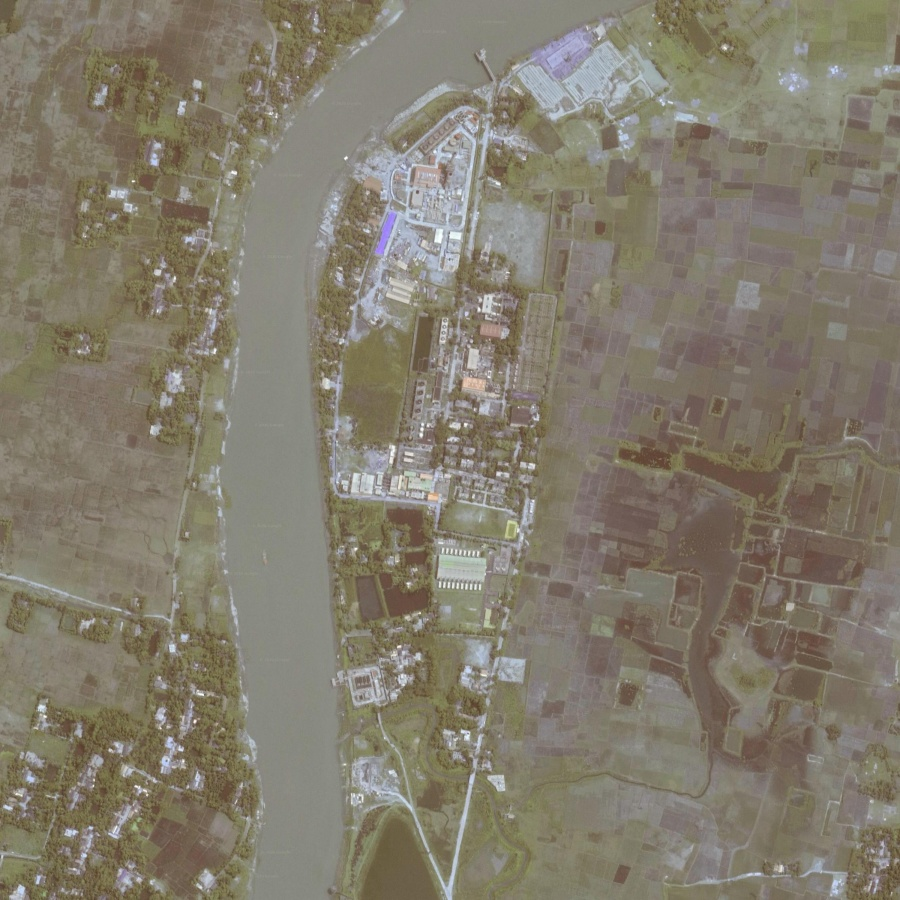PowerPlant: (402, 117, 473, 272)
